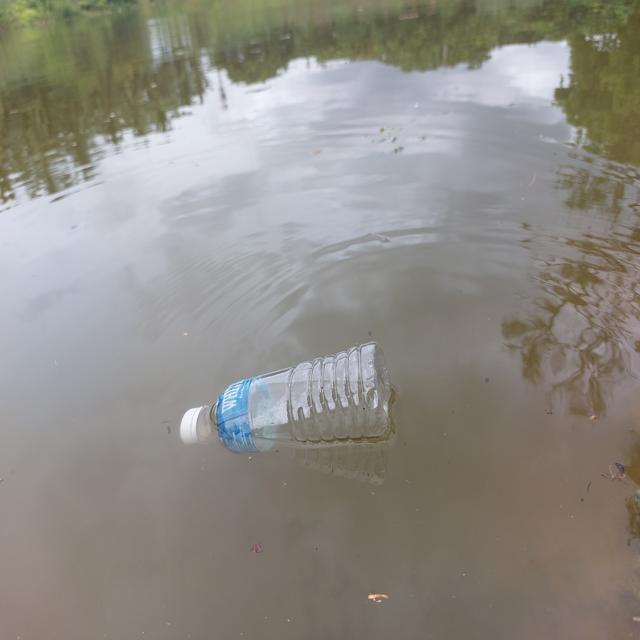waterbottle: (166, 345, 407, 451)
